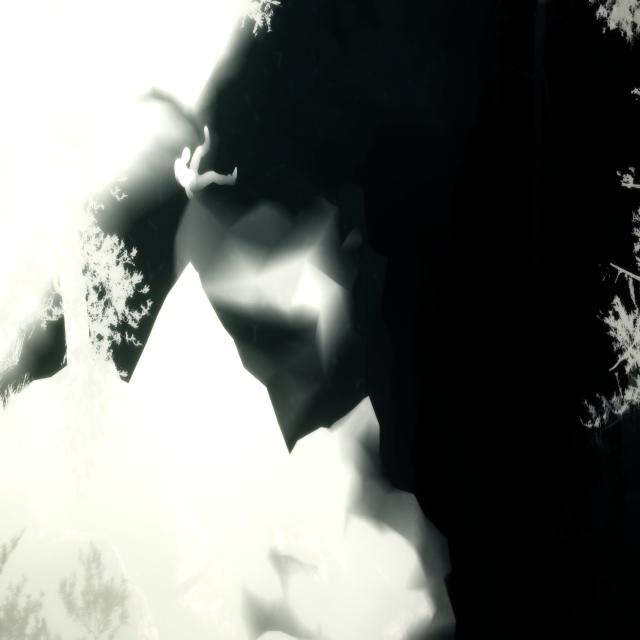Human: (169, 116, 242, 202)
